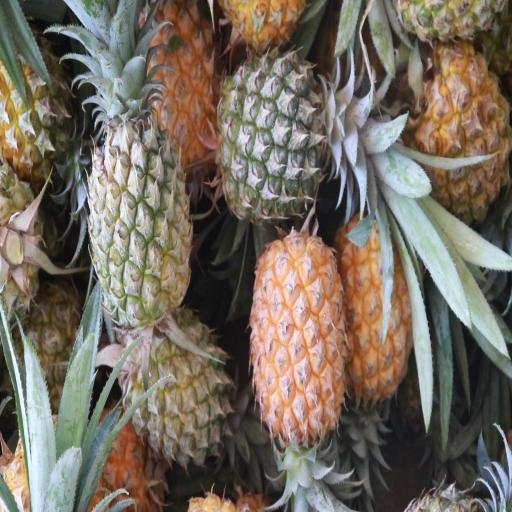------------------------------: (90, 118, 191, 318), (127, 321, 225, 463)
Pineapple - v8 v1: (254, 235, 348, 440), (416, 45, 508, 208), (340, 214, 418, 395), (134, 0, 218, 166)
